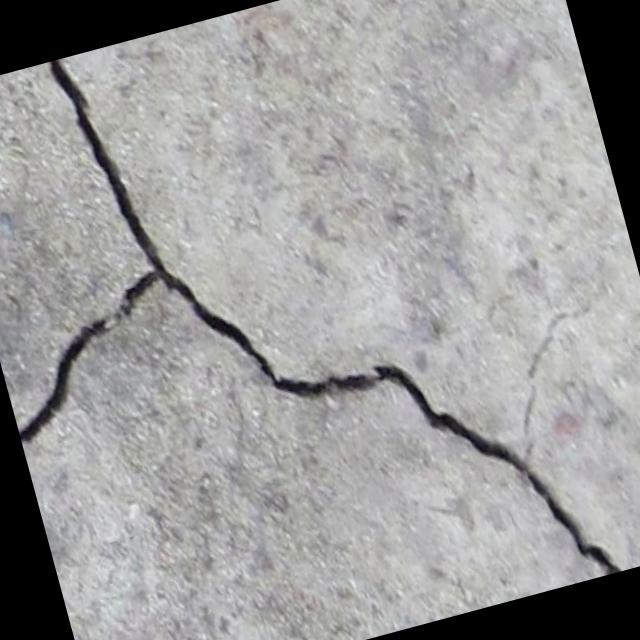crack: (0, 0, 623, 640), (492, 300, 626, 450)
